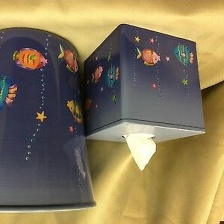plastic_box: (0, 21, 103, 218), (77, 18, 211, 148)
tissue: (119, 129, 161, 175)
